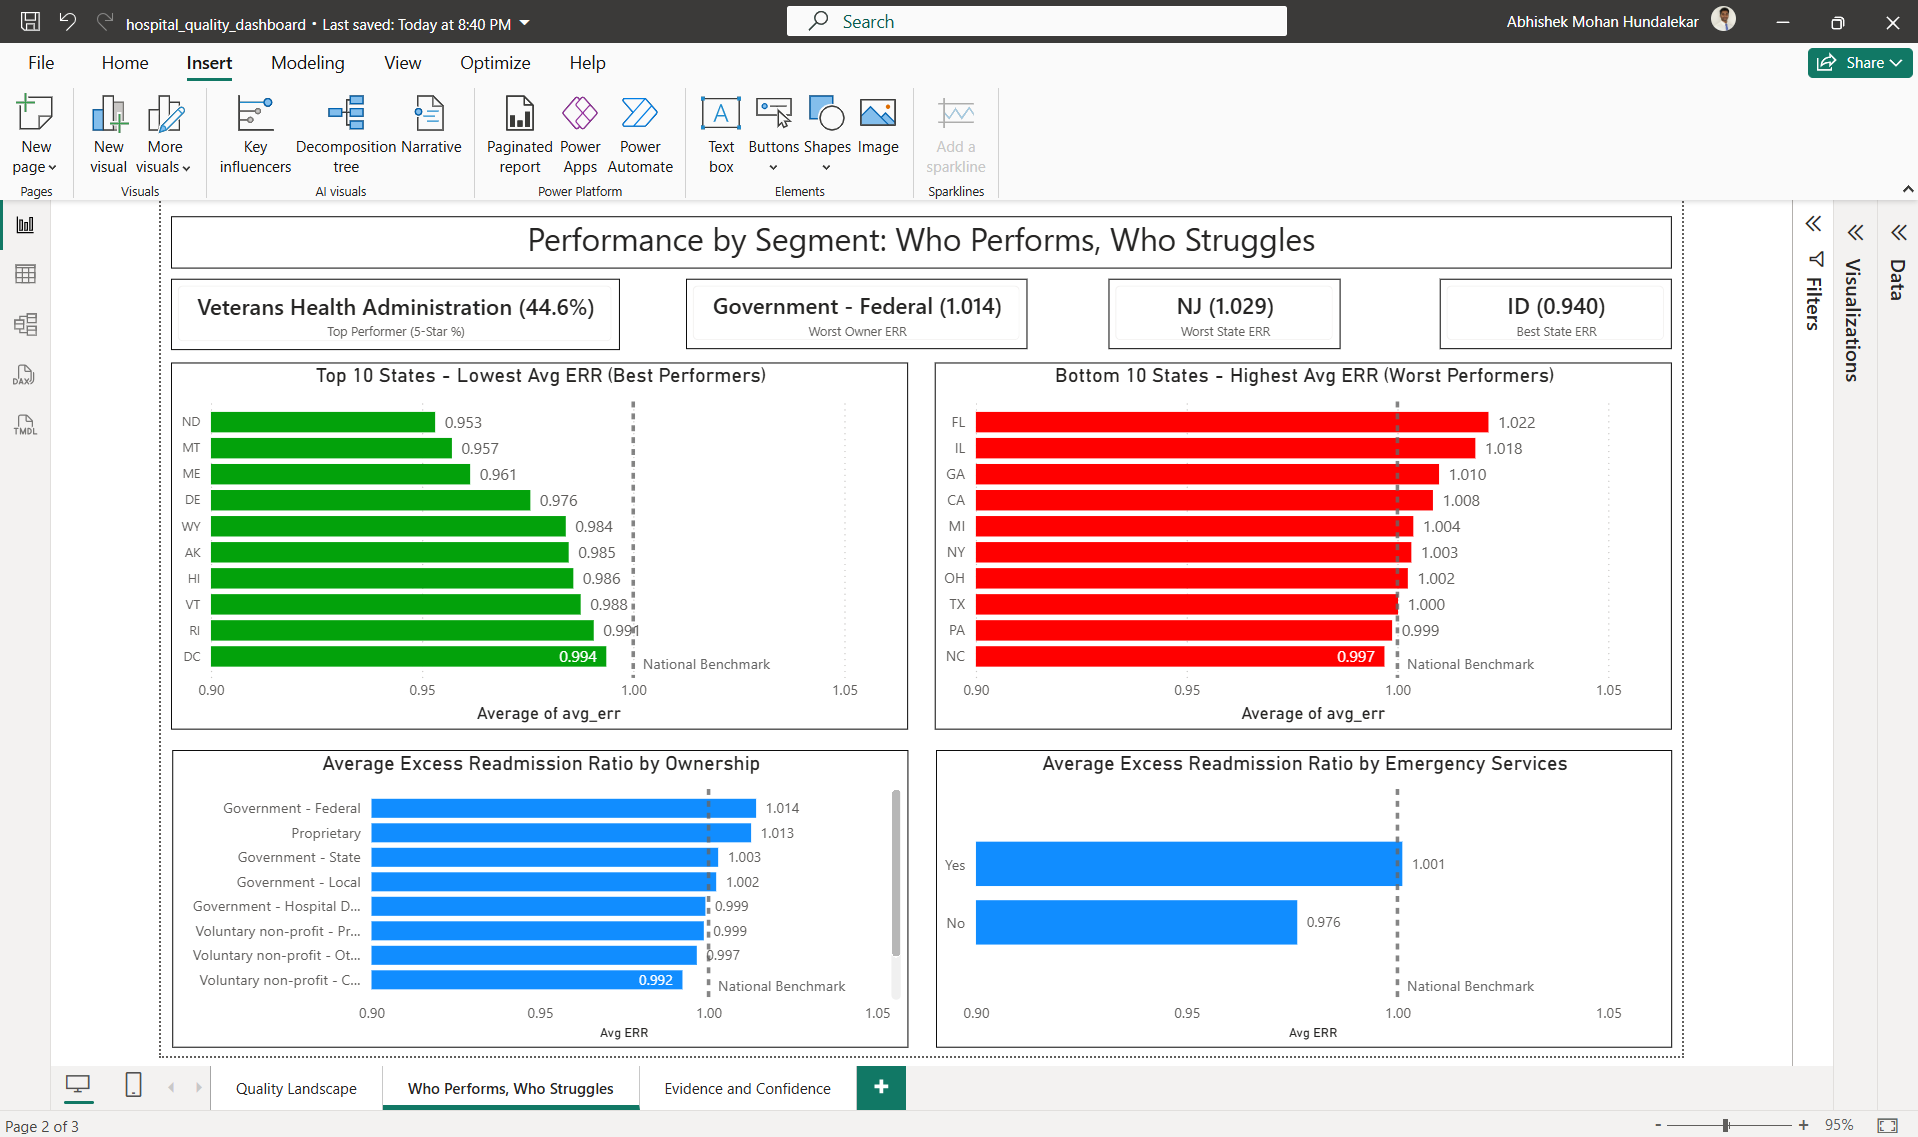

What the dashboard file says about the page in this screenshot:
{"tool":"powerbi","page":{"name":"Who Performs, Who Struggles","canvas":[1280,720],"ordinal":1},"visuals":[{"type":"cardVisual","fields":{"Data":["v_hospital_master.Worst Owner ERR"]},"box":[441.6,66.2,287,58.9],"z":0},{"type":"cardVisual","fields":{"Data":["v_hospital_master.Best State ERR"]},"box":[1075.6,66.2,195.6,58.9],"z":1000},{"type":"cardVisual","fields":{"Data":["v_hospital_master.Worst State ERR"]},"box":[797,66.2,195.6,58.9],"z":2000},{"type":"cardVisual","fields":{"Data":["v_hospital_master.Best Owner 5Star"]},"box":[8.4,66.2,377.5,59.9],"z":3000},{"type":"textbox","box":[8.4,13.7,1262.7,44.2],"z":4000},{"type":"clusteredBarChart","title":"Average Excess Readmission Ratio by Ownership","fields":{"Category":["v_hospital_master.hospital_ownership"],"Y":["Avg(v_hospital_master.avg_err)"]},"box":[9.5,462.6,619.3,250.2],"z":8000},{"type":"clusteredBarChart","title":"Average Excess Readmission Ratio by Emergency Services","fields":{"Category":["v_hospital_master.emergency_services"],"Y":["Avg(v_hospital_master.avg_err)"]},"box":[651.9,462.6,619.3,250.2],"z":9000},{"type":"clusteredBarChart","title":"Top 10 States - Lowest Avg ERR (Best Performers)","fields":{"Category":["v_hospital_master.state"],"Y":["Avg(v_hospital_master.avg_err)"]},"box":[8.4,136.7,620.3,309.1],"z":10000},{"type":"clusteredBarChart","title":"Bottom 10 States - Highest Avg ERR (Worst Performers)","fields":{"Category":["v_hospital_master.state"],"Y":["Avg(v_hospital_master.avg_err)"]},"box":[650.8,136.7,620.3,309.1],"z":11000}]}

Visuals, with their boxes on the page's 1280x720 design canvas (x1, y1, x2, y2). These are canvas units, not pixel positions in the 1918x1137 screenshot, which may show the page scaled, cropped or inside an application window:
cardVisual - v_hospital_master.Worst Owner ERR: rect(442, 66, 729, 125)
cardVisual - v_hospital_master.Best State ERR: rect(1076, 66, 1271, 125)
cardVisual - v_hospital_master.Worst State ERR: rect(797, 66, 993, 125)
cardVisual - v_hospital_master.Best Owner 5Star: rect(8, 66, 386, 126)
textbox: rect(8, 14, 1271, 58)
"Average Excess Readmission Ratio by Ownership" clusteredBarChart: rect(10, 463, 629, 713)
"Average Excess Readmission Ratio by Emergency Services" clusteredBarChart: rect(652, 463, 1271, 713)
"Top 10 States - Lowest Avg ERR (Best Performers)" clusteredBarChart: rect(8, 137, 629, 446)
"Bottom 10 States - Highest Avg ERR (Worst Performers)" clusteredBarChart: rect(651, 137, 1271, 446)
